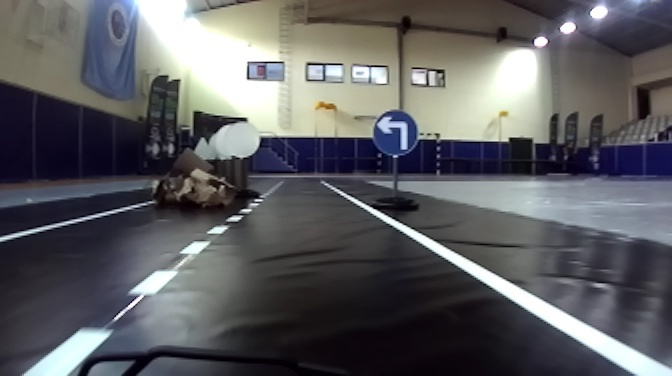sola_donus: (373, 110, 417, 156)
